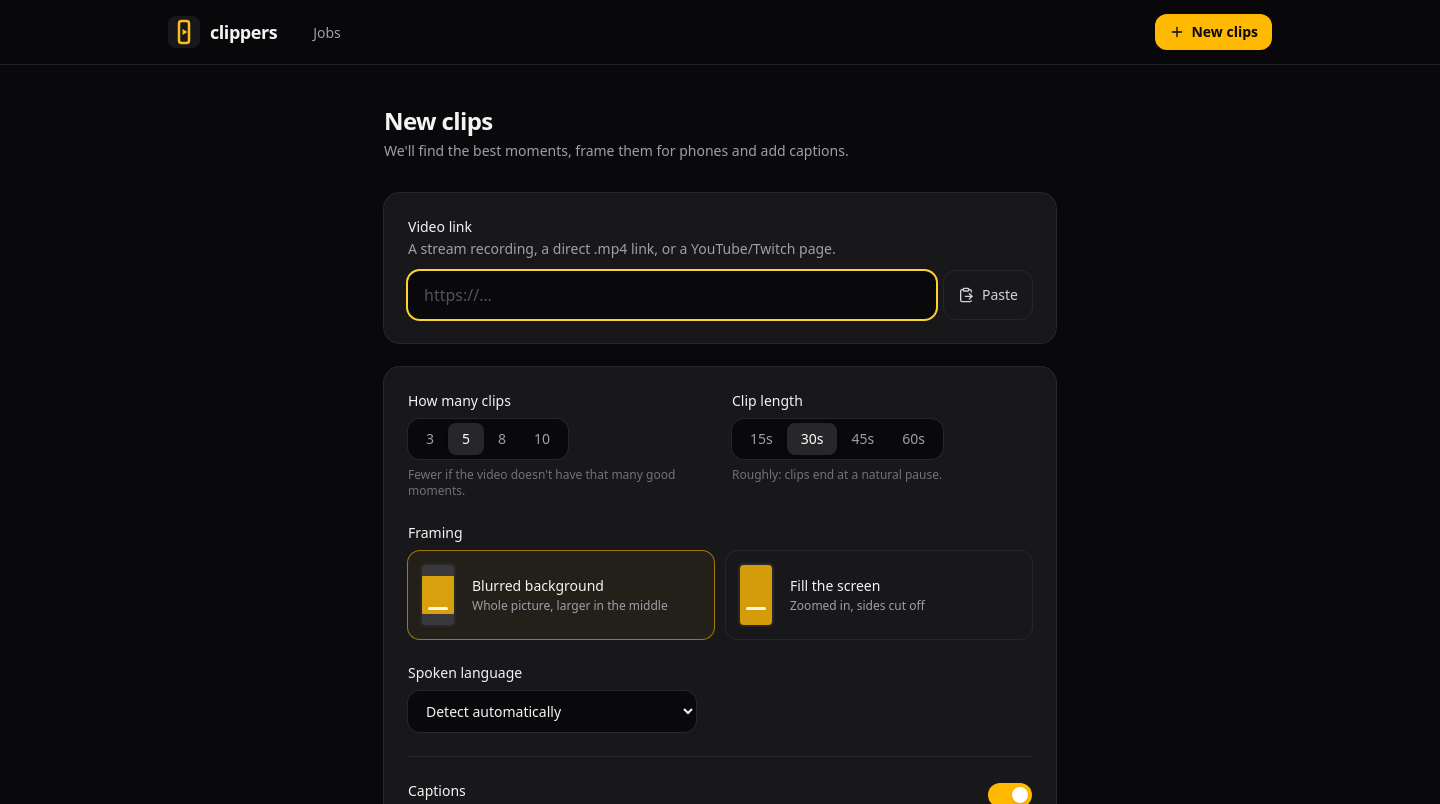
Test case: New clips page › checks the link before sending anything
This screenshot has width=1440, height=804.
Type "not a link" into the field labelled "Video link" at (672, 295), box [408,271,936,319]
(page scrolled)
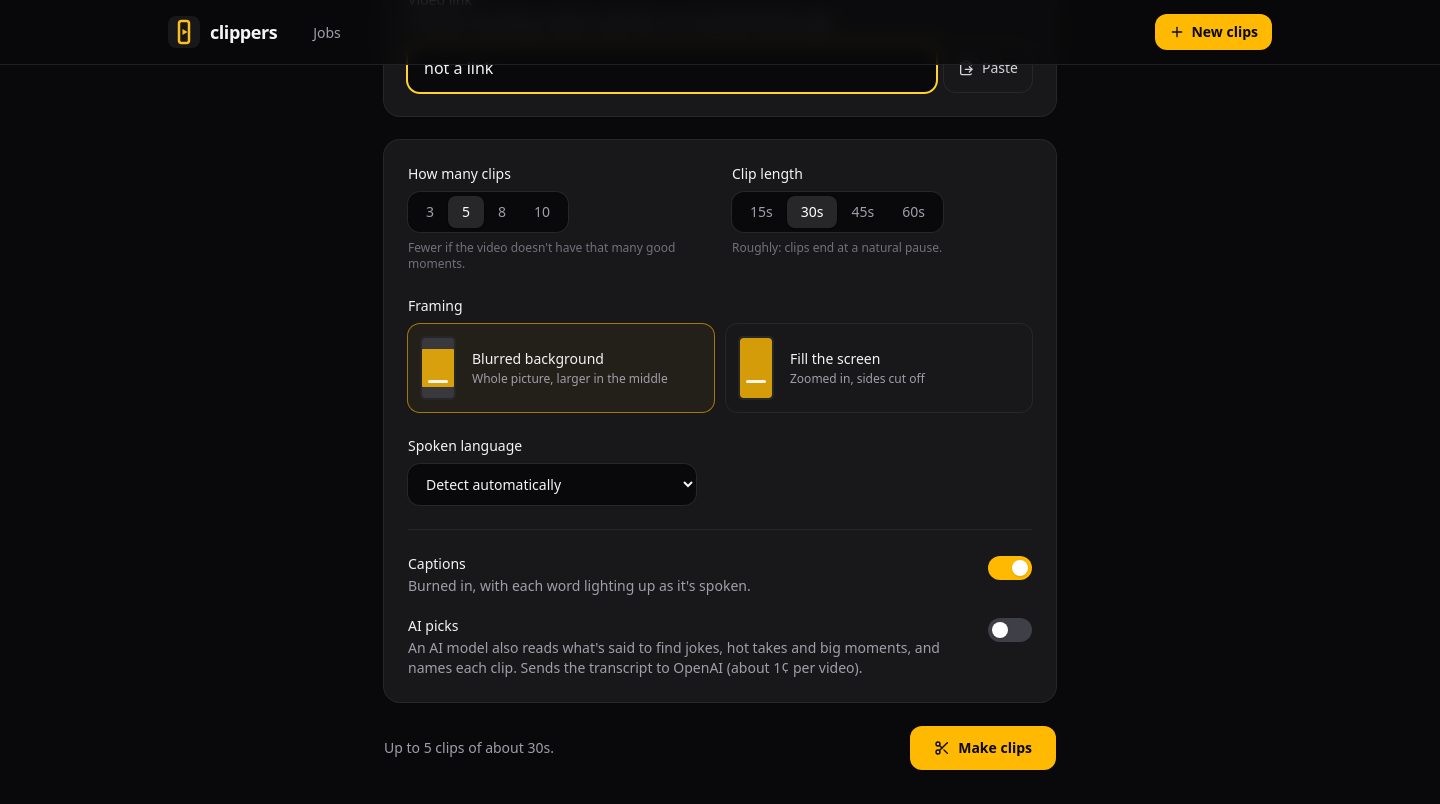
Click the button "Make clips" at (983, 748), box [910,726,1056,770]
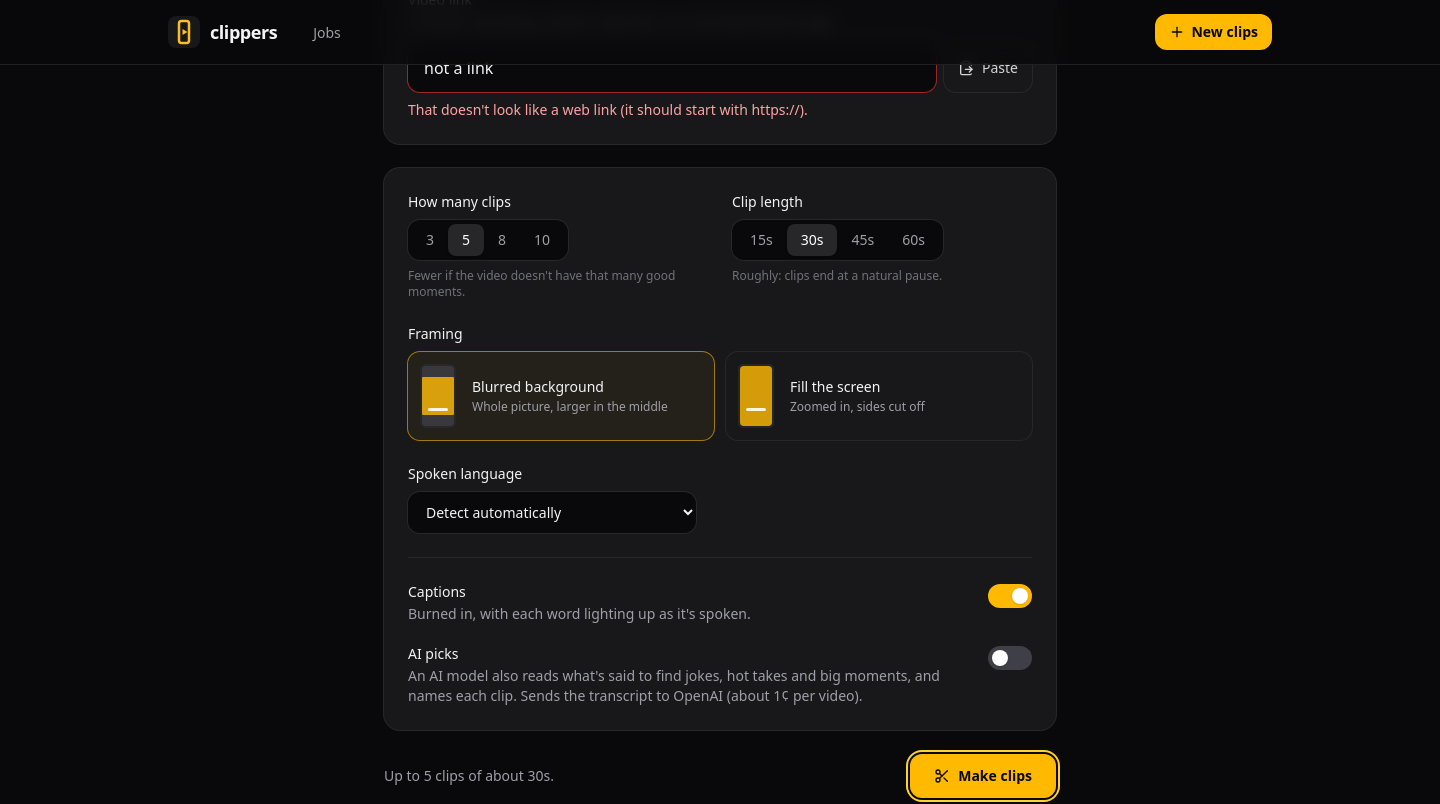
Expected: the message shows "doesn't look like a web link", [408,100,808,119]
